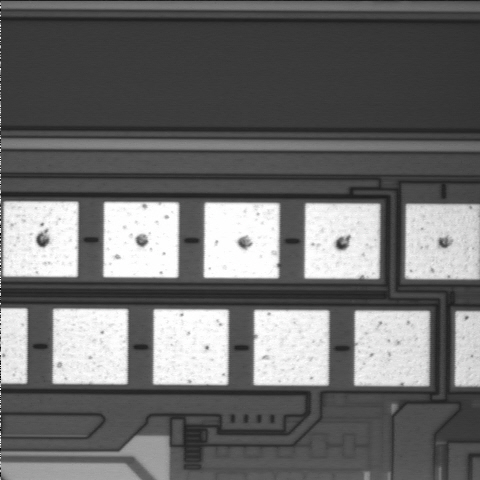pad: (103, 202, 179, 278), (204, 202, 280, 278), (304, 203, 380, 279), (153, 309, 229, 385), (3, 201, 78, 277), (254, 310, 329, 386), (354, 311, 430, 386), (53, 309, 128, 384)
